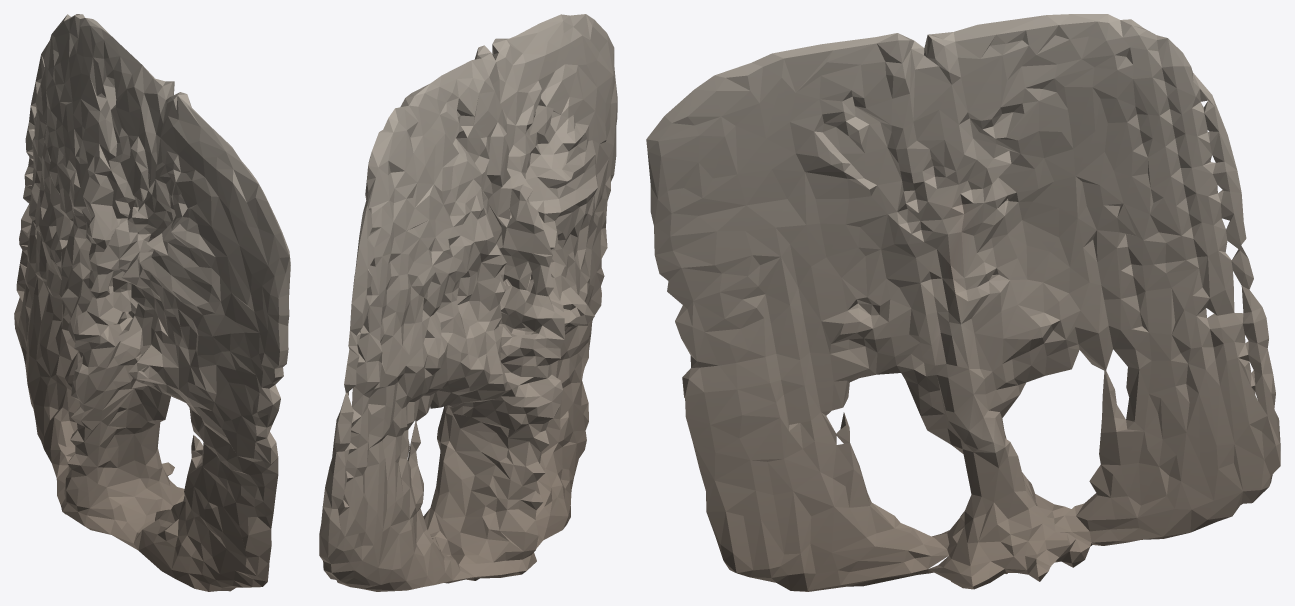
The model's file is tree_dead.glb.
The picture shows the model from 3 angles, left to right: view 1: azimuth 30°, elevation 25°; view 2: azimuth 150°, elevation 25°; view 3: azimuth 270°, elevation 25°; orthographic projection. The views are drawn at different scales.
Parts seen in each view (by area): view 1: world; view 2: world; view 3: world.
Boxes of the visible parts, x1,y1,x2,y2 form: world: [14, 14, 290, 591]; world: [319, 14, 617, 591]; world: [646, 14, 1280, 591].
Bounding box in the file's own units: 2.37 × 8 × 8.07.
